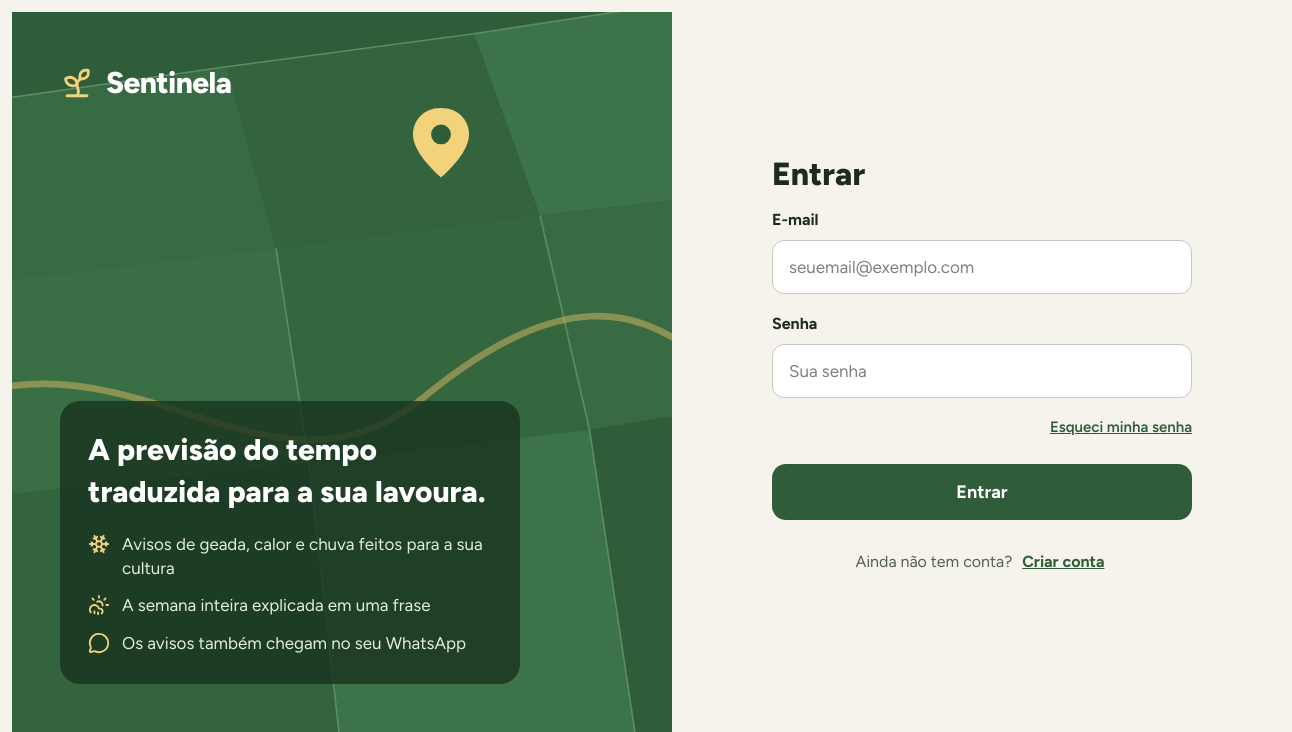
Entrar › com a senha errada, mostra a caixa de erro e não entra
The width and height of the screenshot is (1292, 732).
expect the heading "Entrar" is shown: met, box [772,155,865,193]
Type "joao@exemplo.com" into the field labelled "E-mail" at [982, 267], box [772,240,1192,294]
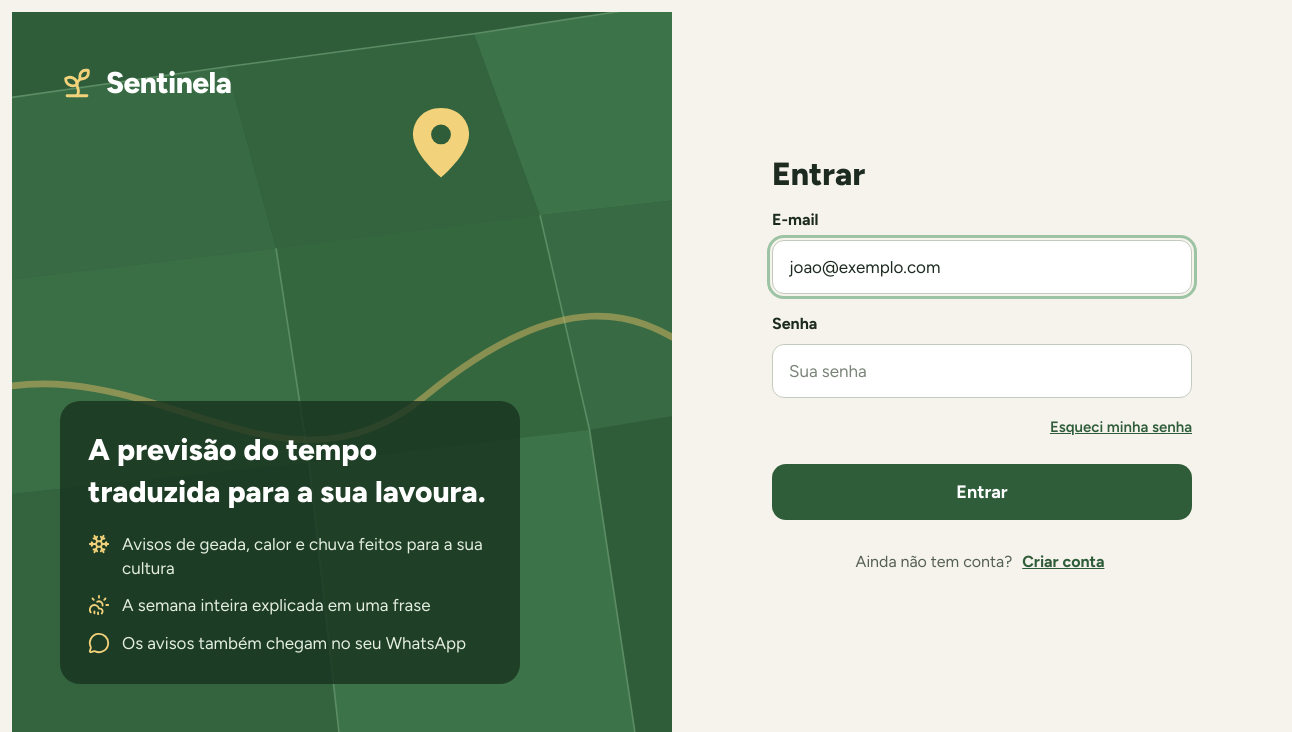
Type "senha-errada" into the password field labelled "Senha" at [982, 371], box [772,344,1192,398]
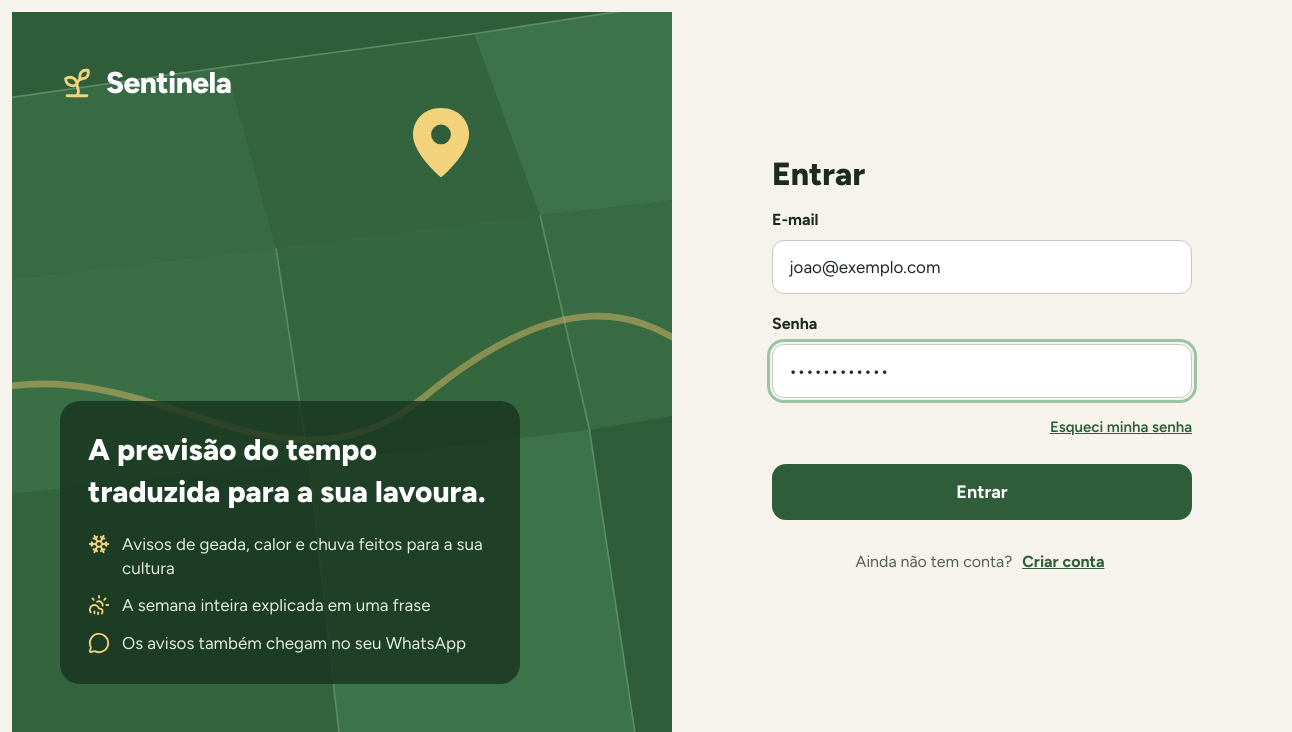
Click the button "Entrar" at [982, 492], box [772,464,1192,520]
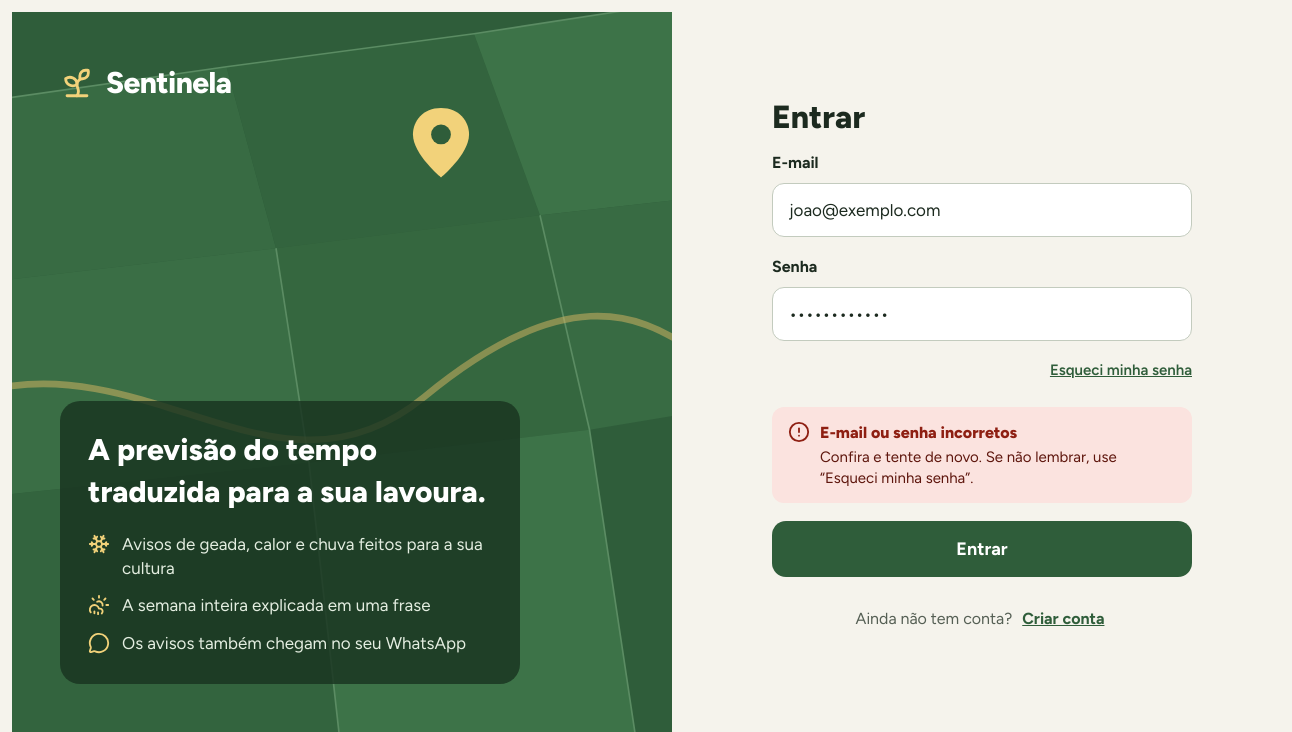
expect the message shows "E-mail ou senha incorretos": met, box [820,423,1017,442]
expect the message shows "Esqueci minha senha": met, box [820,448,1117,487]
